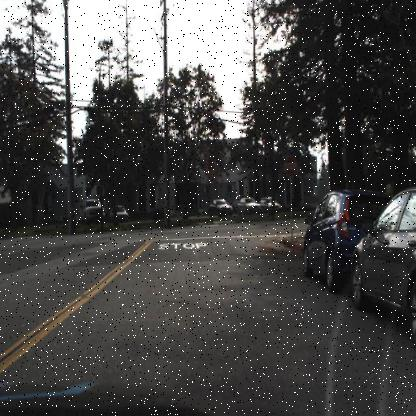car: (352, 186, 415, 345), (302, 185, 356, 287), (78, 196, 106, 226), (206, 195, 234, 219), (257, 194, 281, 216), (237, 195, 261, 215), (111, 203, 129, 227)
